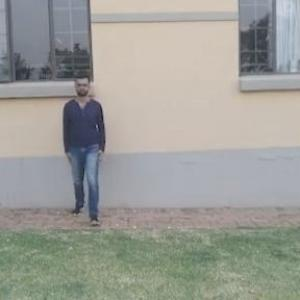follow: (60, 70, 106, 221)
